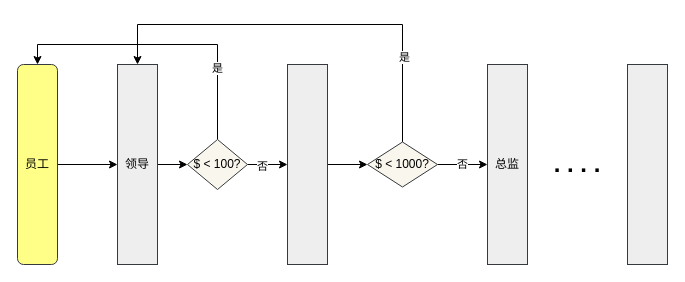
The diagram is 685 pixels wide and 282 high, and some of its shapes have lost their labels. The shapes that lost their labels are listed below. From the top down, each one's centre as x and y in pixels, then its label:
At [307,164]: "经理".
At [647,164]: "老板".
